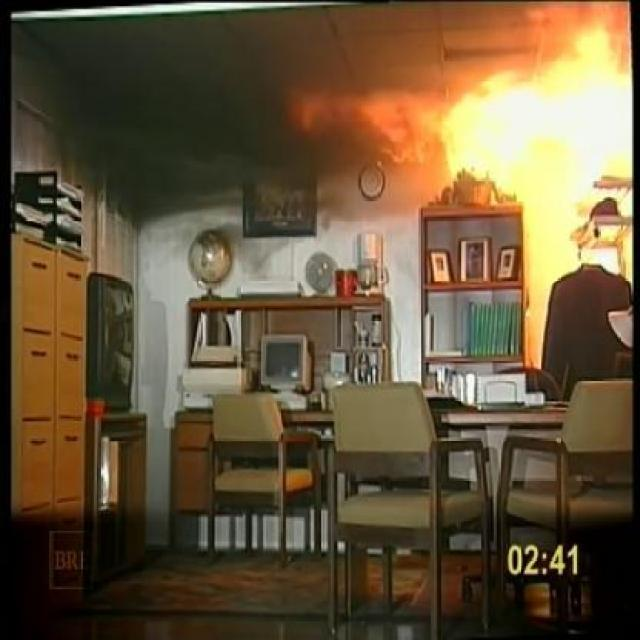fire: (424, 40, 640, 160)
